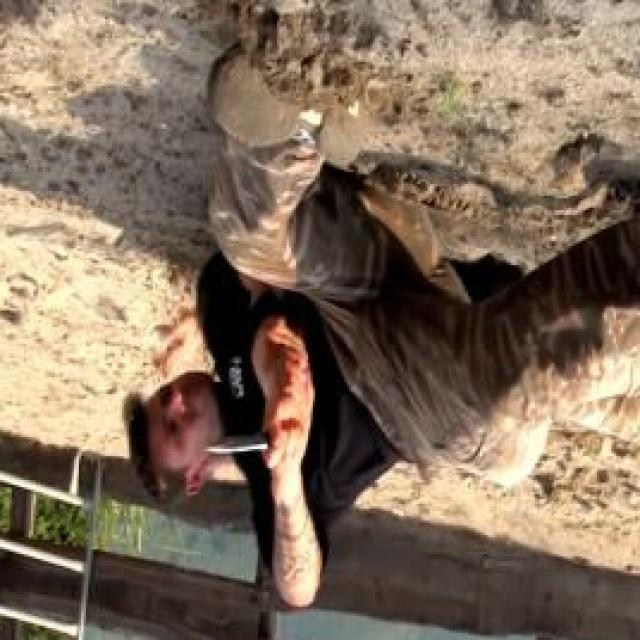knife: (200, 416, 304, 478)
